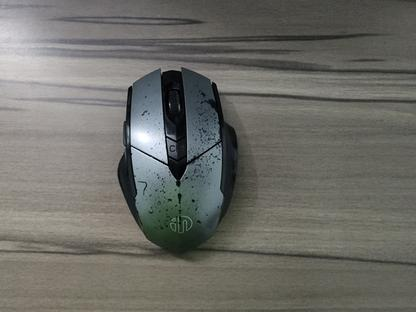mouse: (116, 65, 239, 253)
